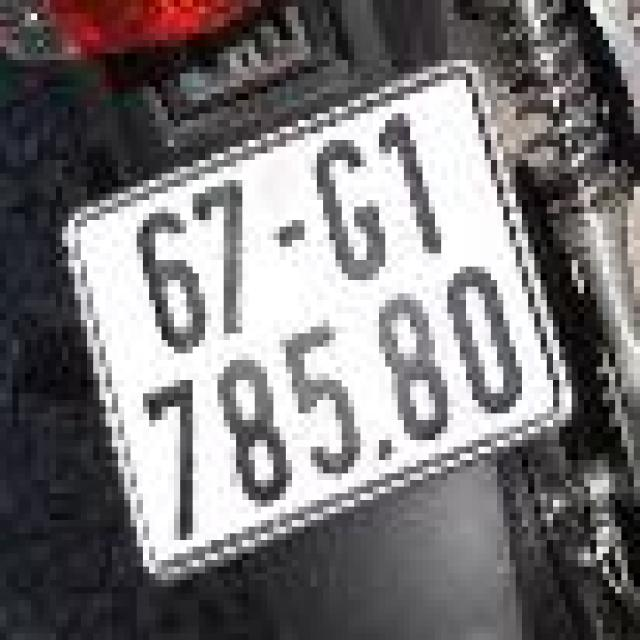0: (434, 241, 546, 436)
1: (363, 97, 469, 268)
5: (273, 301, 376, 490)
6: (116, 191, 220, 369)
7: (127, 362, 225, 555), (179, 162, 272, 355)
8: (362, 274, 472, 456), (207, 341, 309, 521)
G: (300, 110, 412, 294)
